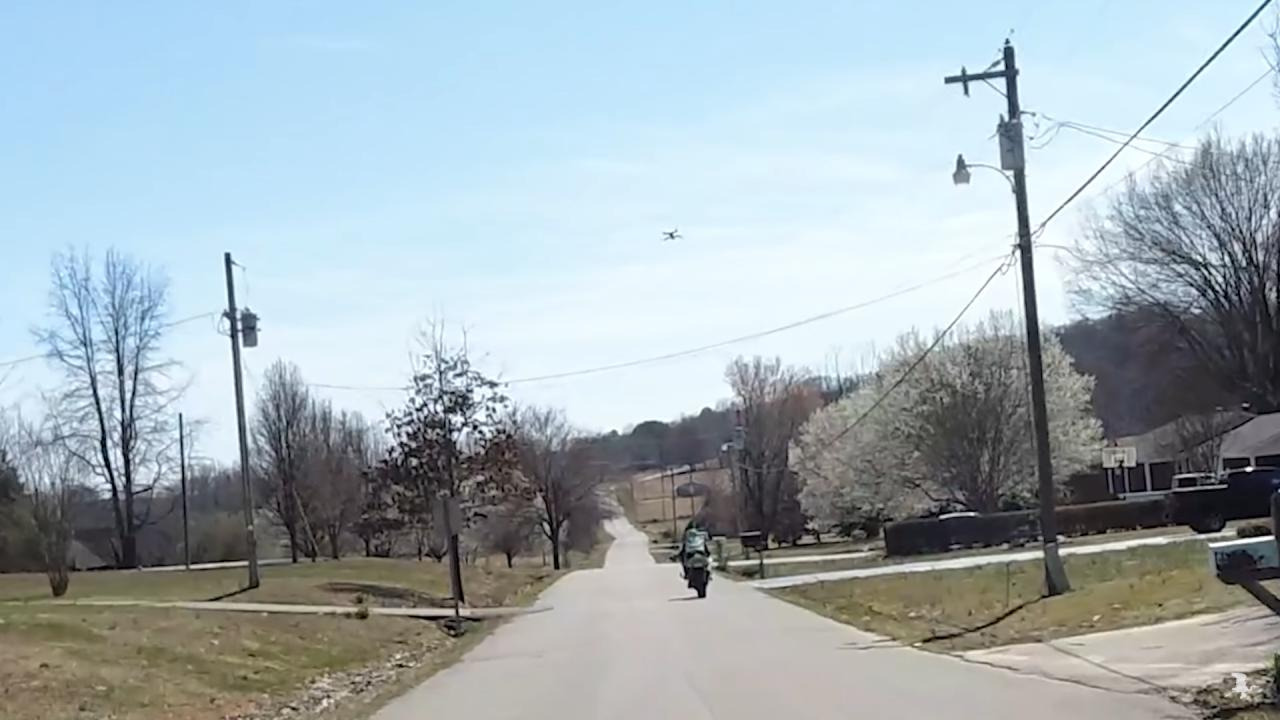Drone: (656, 222, 688, 248)
